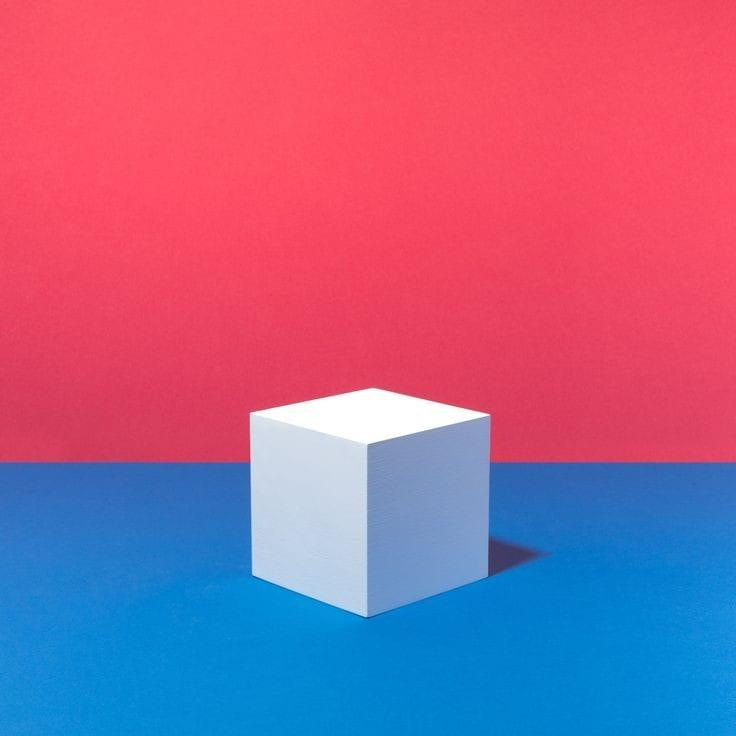cubos: (237, 373, 532, 627)
